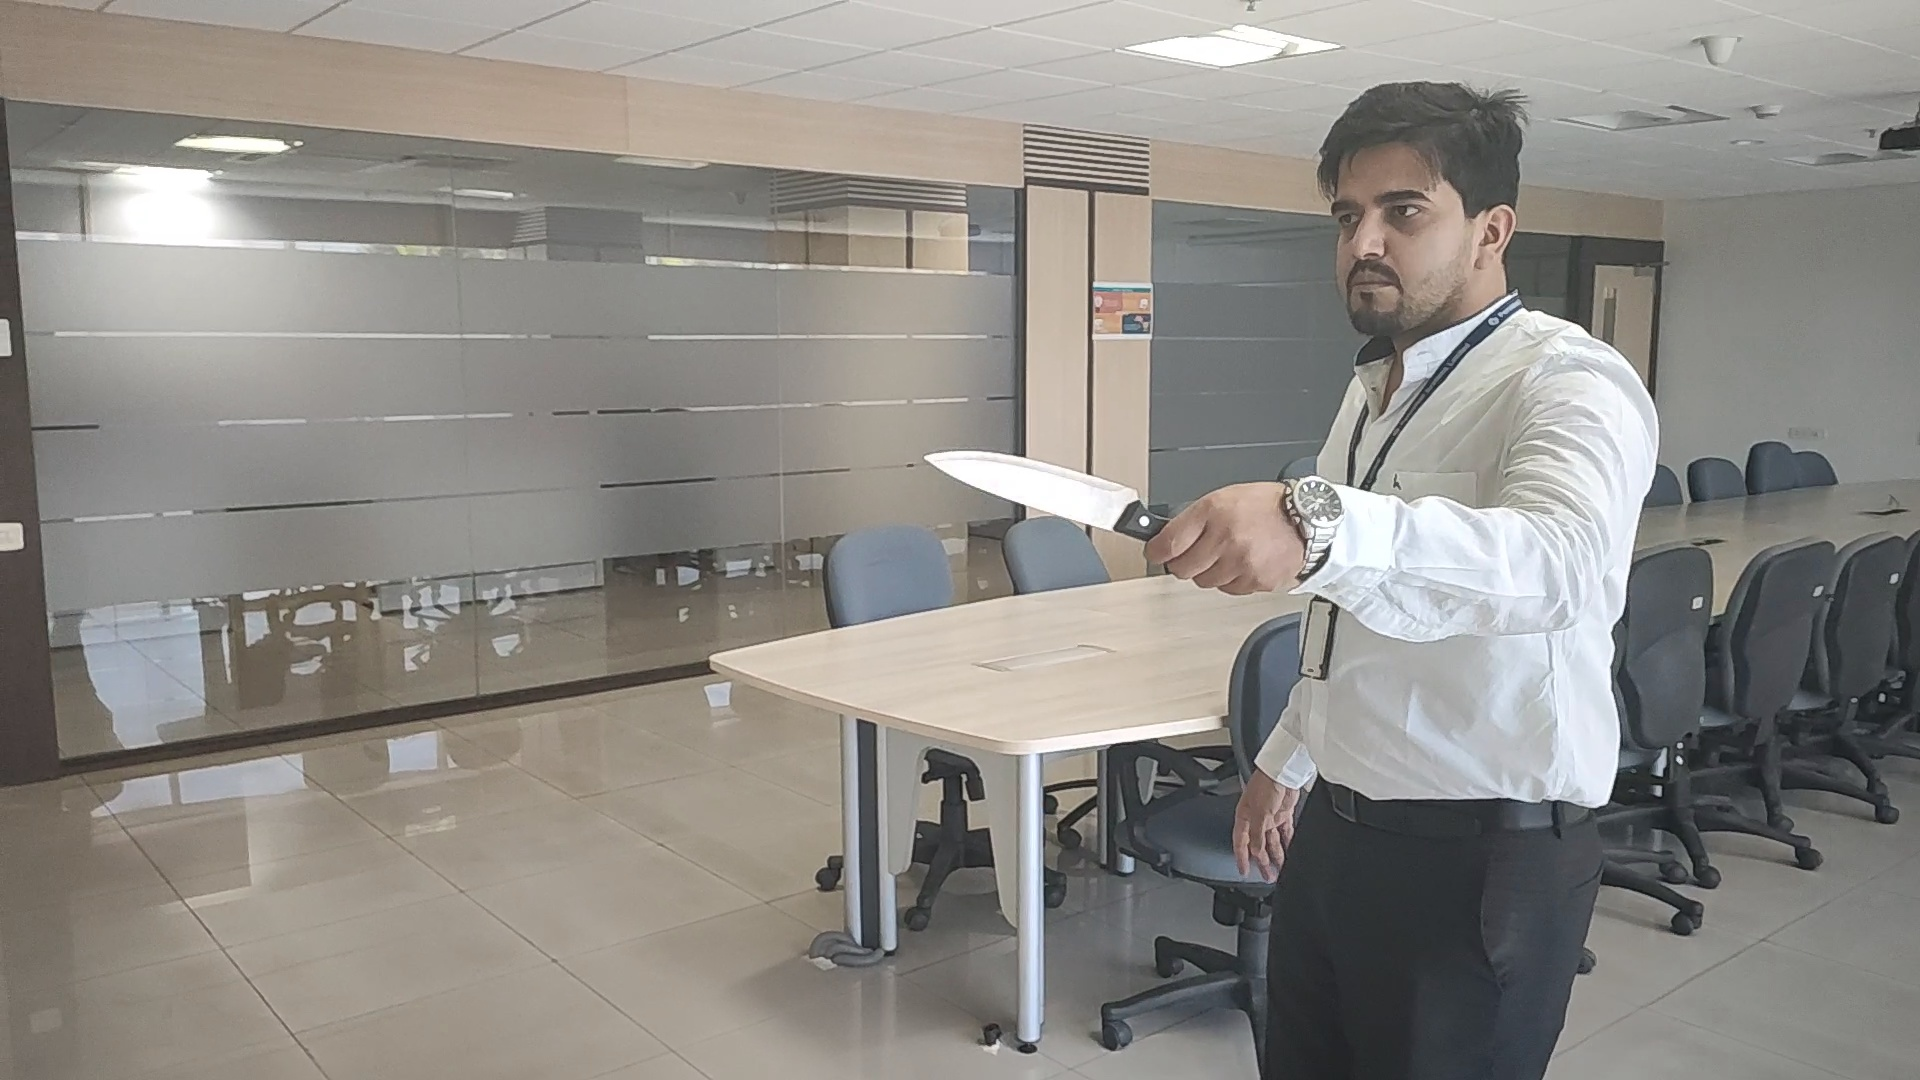knife: (922, 442, 1164, 539)
